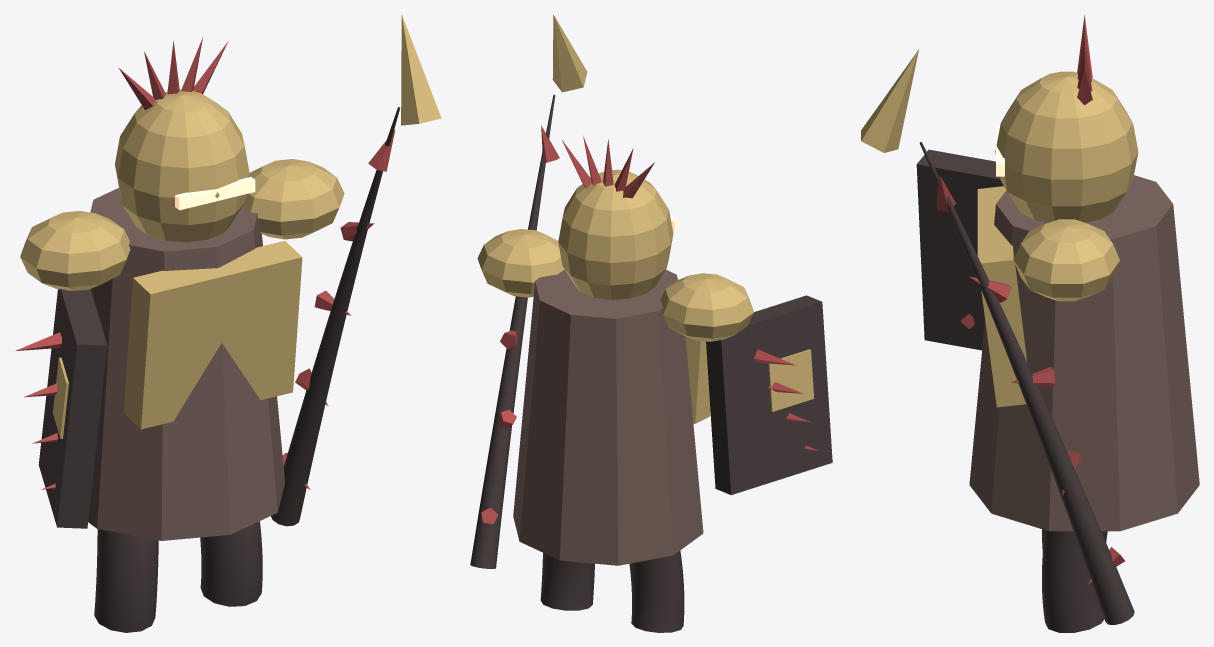
File: briar_knight.glb
The picture shows the model from 3 angles, left to right: view 1: azimuth 30°, elevation 25°; view 2: azimuth 150°, elevation 25°; view 3: azimuth 270°, elevation 25°; orthographic projection. The views are drawn at different scales.
Parts seen in each view (by area): view 1: briar_knight; view 2: briar_knight; view 3: briar_knight.
Part boxes in pixels (x1,y1,x2,y2): briar_knight: (15, 14, 441, 632); briar_knight: (470, 14, 832, 632); briar_knight: (861, 15, 1199, 632).
Size of the model in its own units: 0.9326 by 1.55 by 0.7643.
